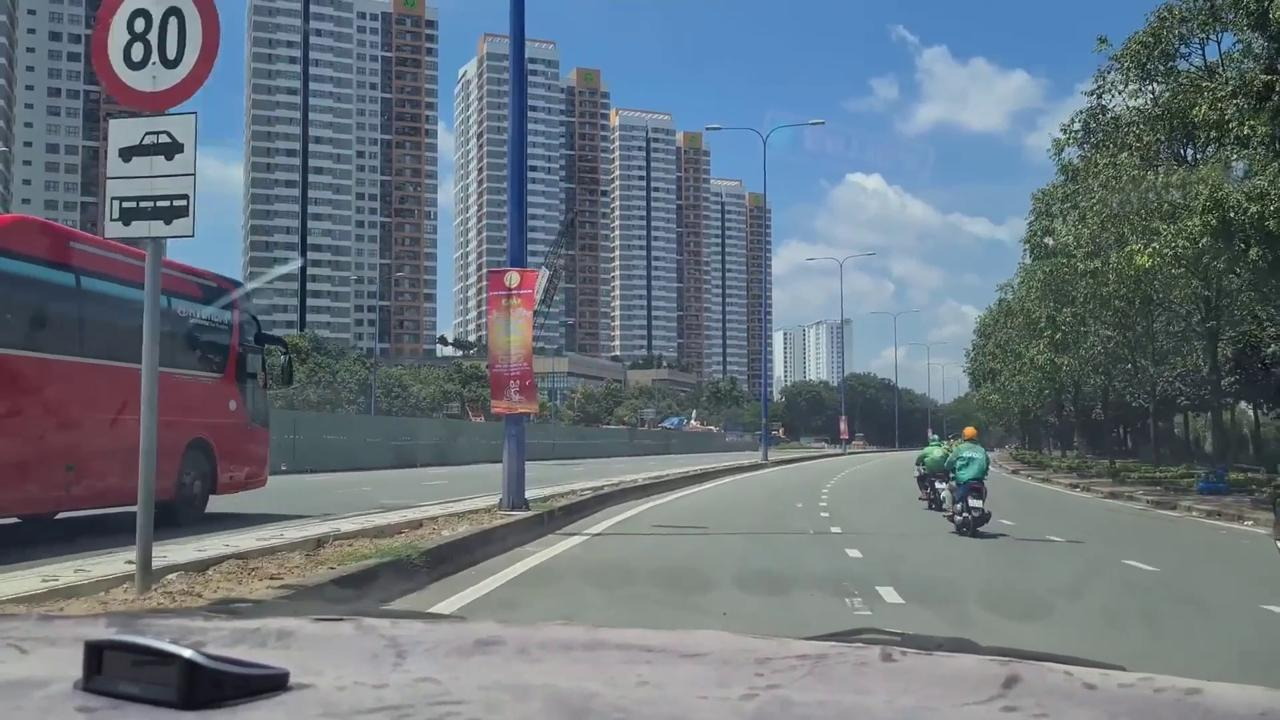Biển phụ: (99, 113, 197, 240)
Giới hạn tốc độ 80Km/h: (86, 0, 225, 116)
